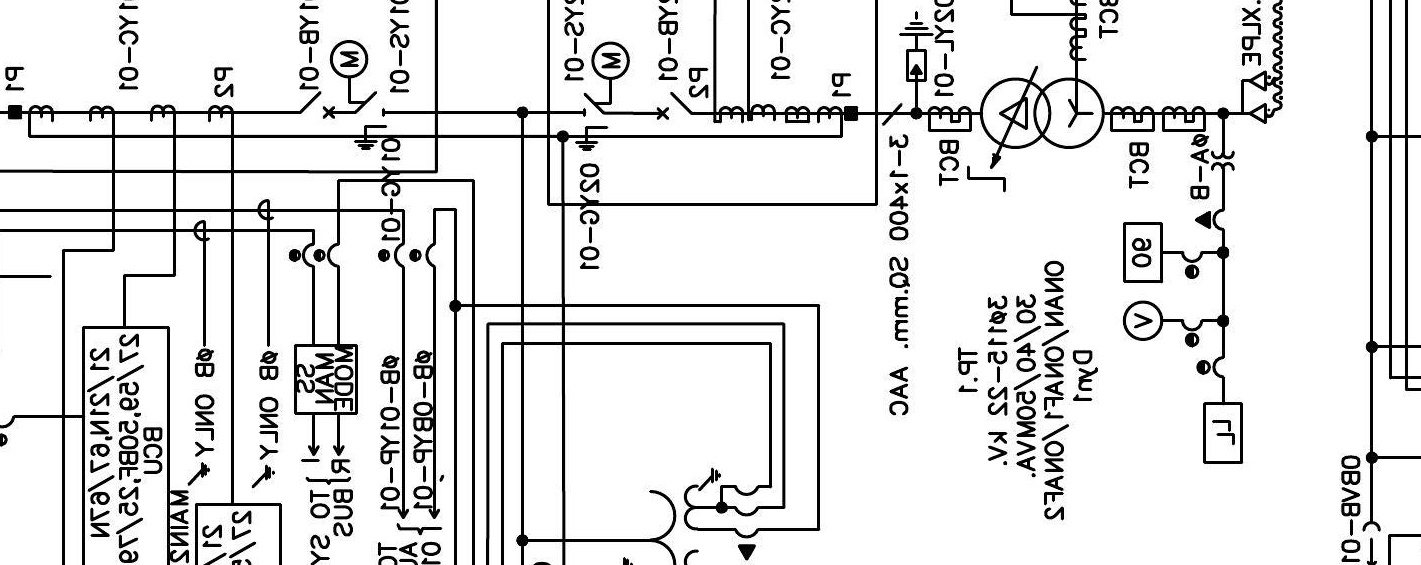11522_tx_dyn1: (979, 77, 1106, 150)
115_3ways_ds_w_motor: (329, 39, 388, 151), (574, 40, 631, 152)
115_breaker: (299, 90, 336, 120), (656, 91, 693, 121)
115_la: (898, 10, 935, 83)
LL: (1202, 401, 1244, 465)
ss_man_mode: (293, 343, 359, 416)
terminator_double: (1240, 70, 1267, 124)
v_m: (1122, 299, 1164, 342)
